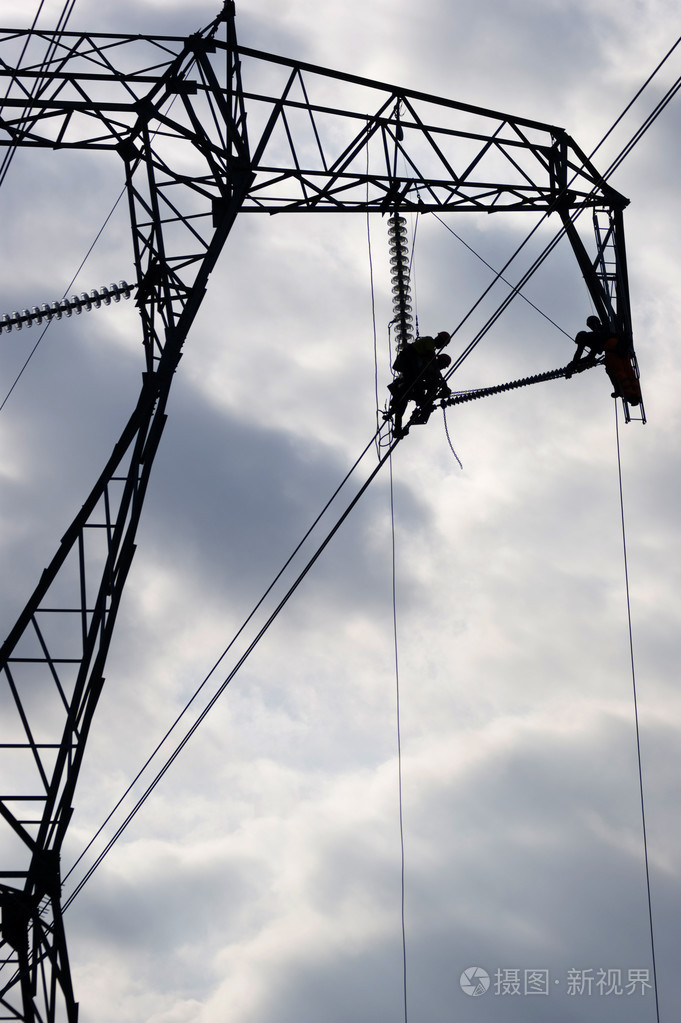insulator: (1, 276, 135, 330), (387, 216, 414, 347)
